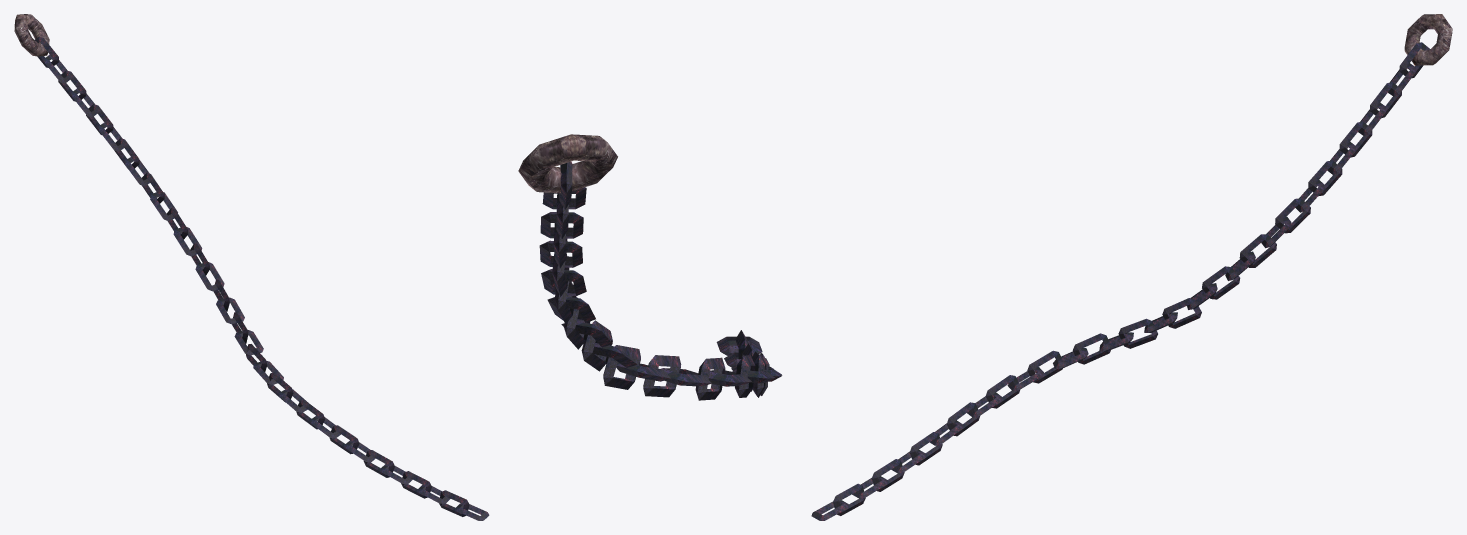
Rendered from flame_chain_008.fbx.
3 renders of one model, left to right at view 1: azimuth 30°, elevation 25°; view 2: azimuth 150°, elevation 25°; view 3: azimuth 270°, elevation 25°, orthographic. The views are drawn at different scales.
Visible parts, largest first — view 1: flame_chain_008; view 2: flame_chain_008; view 3: flame_chain_008.
Part boxes in pixels (bbox=[...]): flame_chain_008: bbox=[14, 14, 489, 520]; flame_chain_008: bbox=[518, 134, 782, 400]; flame_chain_008: bbox=[811, 14, 1452, 520].
Bounding box in the file's own units: 8.31 × 13.47 × 19.47.
